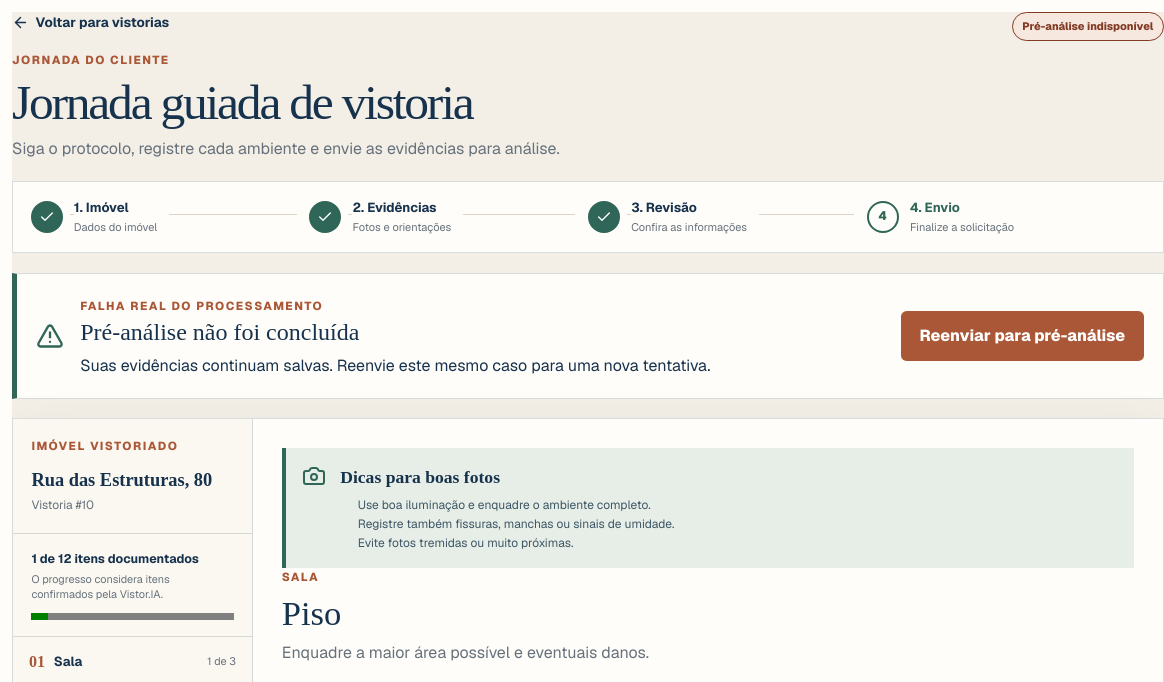
Test: InspectionWorkflow › reenvia o mesmo caso somente quando a IA falhou
Step 1. Click the button "Reenviar para pré-análise" → (1022, 336), box x1=901 y1=311 x2=1144 y2=361
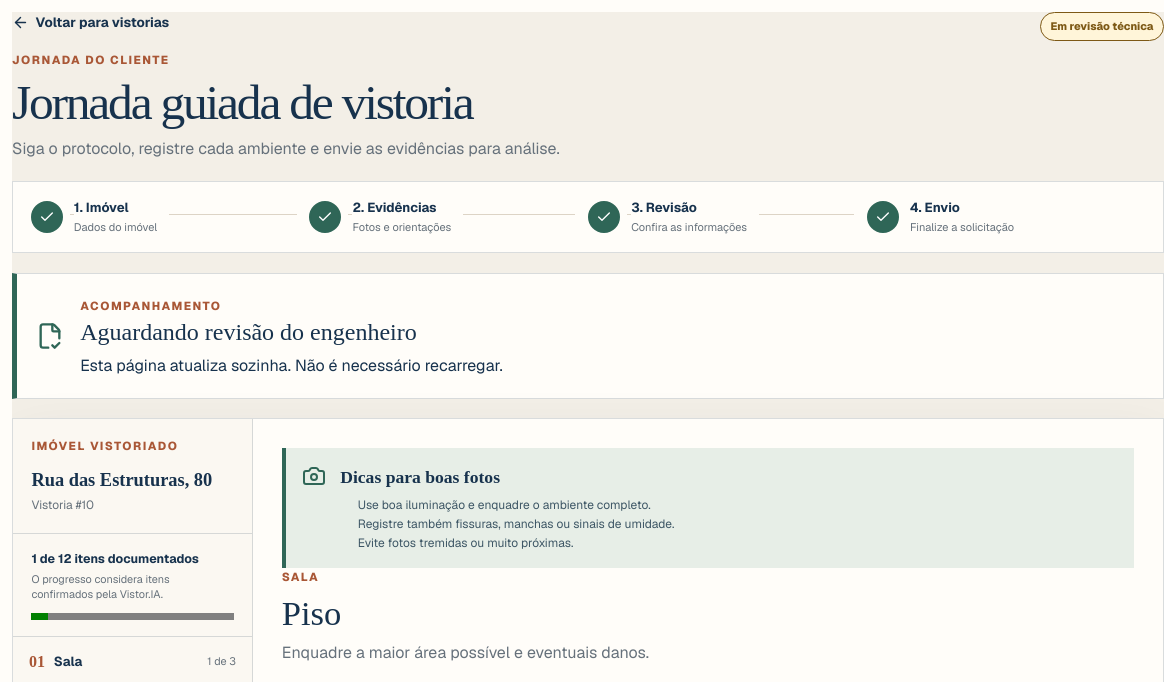
Check: the heading "Aguardando revisão do engenheiro" is shown, box x1=80 y1=320 x2=417 y2=346
